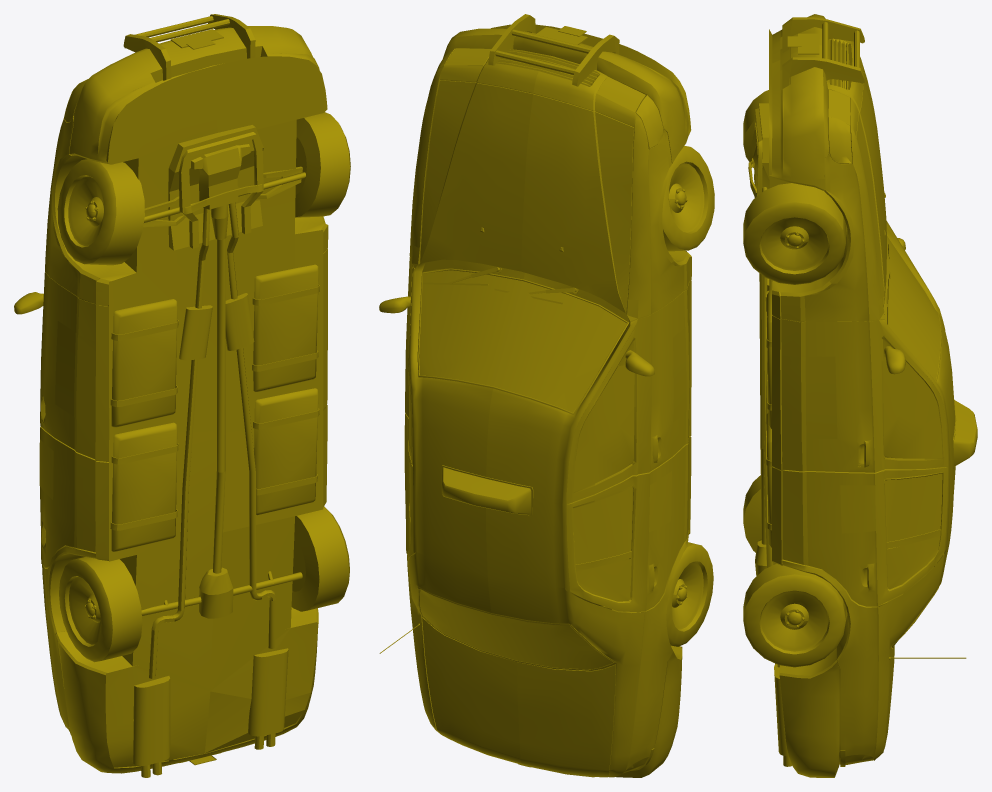
The model's file is taxi_y.dae.
3 views of the same model, side by side, from view 1: azimuth 30°, elevation 25°; view 2: azimuth 150°, elevation 25°; view 3: azimuth 270°, elevation 25° (orthographic). The views are drawn at different scales.
Visible parts, largest first — view 1: taxi; view 2: taxi; view 3: taxi.
Part boxes in pixels (box(x1,y1,x2,y2)): taxi: box(14, 14, 350, 777); taxi: box(379, 14, 714, 777); taxi: box(743, 14, 977, 777).
Size of the model in its own units: 2.23 by 1.71 by 5.65.
